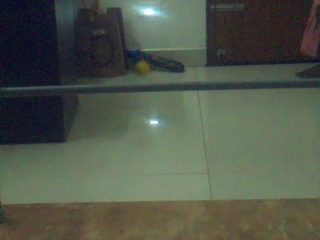ball: (135, 59, 149, 74)
